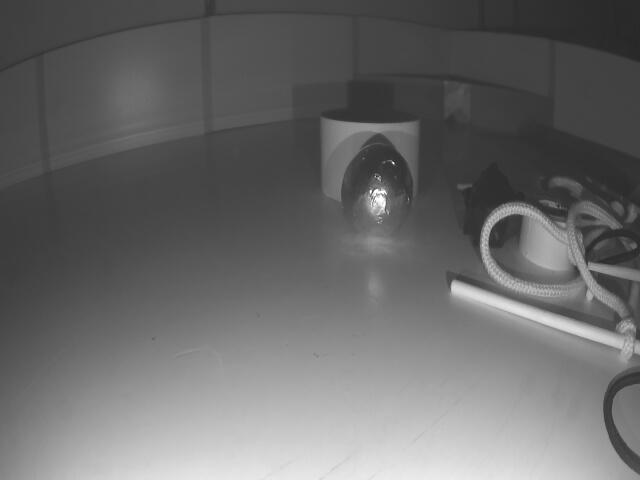Dead: (461, 165, 515, 246)
Live: (340, 150, 416, 239)
Point: (345, 66, 553, 141)
